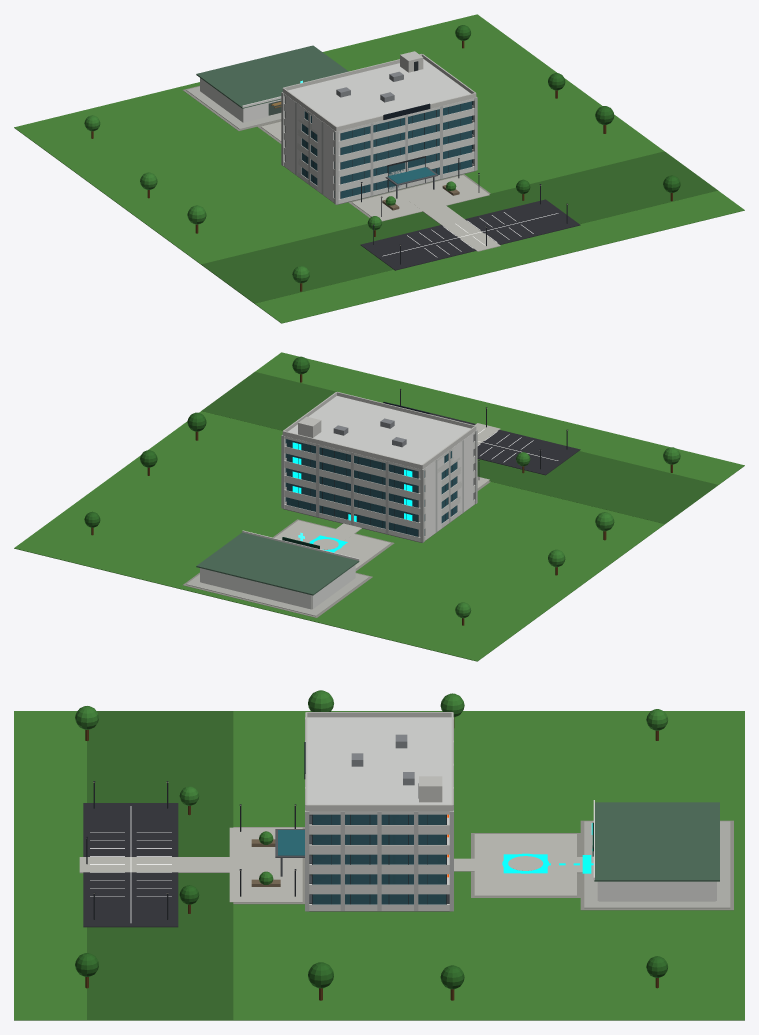
Rendered from OfficeBuilding_5F.fbx.
3 views of the same model, one above another, from view 1: azimuth 30°, elevation 25°; view 2: azimuth 150°, elevation 25°; view 3: azimuth 270°, elevation 25° (orthographic). The views are drawn at different scales.
Visible parts, largest first — view 1: EXT_Lawn, EXT_LawnStripe, F5_Ceiling, EXT_Lot, EC_Roof, EXT_Plaza, EXT_Walk, FAC_Glass_F4, FAC_Glass_F3, FAC_Glass_F5, EC_Pad, FAC_Glass_F2 (+9 smaller); view 2: EXT_Lawn, EXT_LawnStripe, F5_Ceiling, EC_Roof, EXT_Lot, EC_Wall_Back, EXT_AssemblyPad, EC_Pad, FAC_Glass_B1, FAC_Glass_B2, FAC_Glass_B4, FAC_Glass_B3 (+10 smaller); view 3: EXT_Lawn, EXT_LawnStripe, F5_Ceiling, EXT_Lot, EC_Roof, EXT_AssemblyPad, EXT_Plaza, EXT_Walk, EC_Pad, EC_Wall_R, FAC_Glass_R1, FAC_Glass_R2 (+17 smaller).
Part boxes in pixels (x1,y1,x2,y2): EXT_Lawn: (14, 14, 744, 323); EXT_LawnStripe: (201, 151, 717, 303); F5_Ceiling: (288, 59, 470, 126); EXT_Lot: (360, 199, 580, 270); EC_Roof: (196, 45, 348, 108); EXT_Plaza: (352, 175, 489, 221); EXT_Walk: (408, 195, 500, 251); FAC_Glass_F4: (340, 116, 471, 154); FAC_Glass_F3: (340, 130, 471, 169); FAC_Glass_F5: (340, 101, 471, 140); EC_Pad: (186, 86, 281, 129); FAC_Glass_F2: (340, 145, 471, 184); EXT_Lawn: (14, 352, 744, 661); EXT_LawnStripe: (201, 372, 717, 523); F5_Ceiling: (288, 396, 470, 464); EC_Roof: (196, 532, 359, 595); EXT_Lot: (395, 404, 580, 475); EC_Wall_Back: (200, 568, 311, 609); EXT_AssemblyPad: (274, 520, 390, 568); EC_Pad: (186, 573, 368, 616); FAC_Glass_B1: (287, 497, 418, 536); FAC_Glass_B2: (287, 483, 418, 522); FAC_Glass_B4: (287, 454, 418, 492); FAC_Glass_B3: (287, 468, 418, 507); EXT_Lawn: (14, 711, 744, 1020); EXT_LawnStripe: (87, 711, 233, 1019); F5_Ceiling: (307, 717, 451, 804); EXT_Lot: (83, 803, 178, 927); EC_Roof: (594, 802, 719, 881); EXT_AssemblyPad: (474, 834, 576, 896); EXT_Plaza: (229, 827, 302, 902); EXT_Walk: (79, 857, 269, 873); EC_Pad: (584, 821, 730, 908); EC_Wall_R: (598, 881, 715, 901); FAC_Glass_R1: (312, 894, 446, 904); FAC_Glass_R2: (312, 874, 446, 884).
Size of the model in its own units: 100 by 17.93 by 100.
